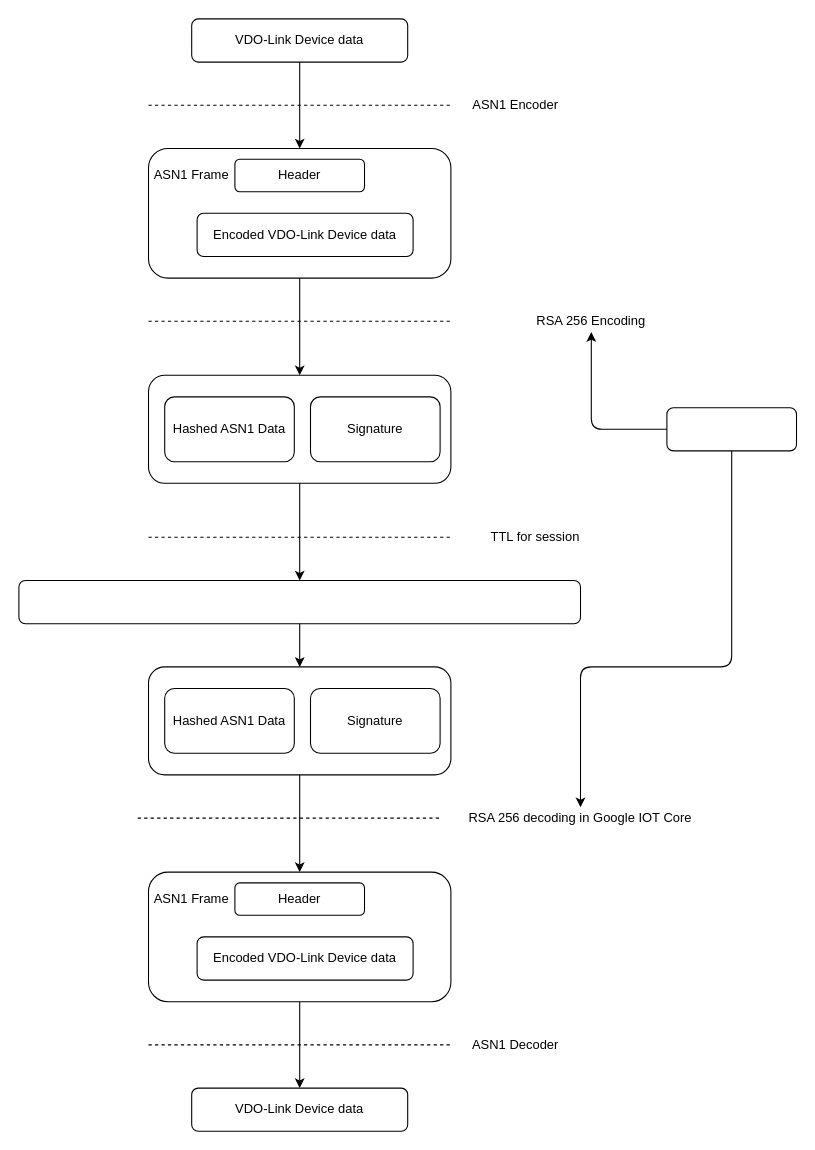
Image size: 815x1150. Some labels were removed from this diagram. Each missing label, with the centre of its shape:
"Cloud for PUB/SUB" goes at [299,601].
"RSA Public Key" goes at [731,429].
